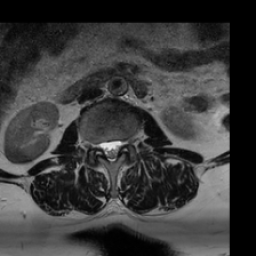CCS_normal: (107, 129, 113, 169)
LFS_stenosis: (122, 129, 130, 155)
LLS_normal: (113, 129, 122, 164)
RFS_severe_stenosis: (92, 133, 98, 157)
RLS_normal: (98, 132, 107, 162)
